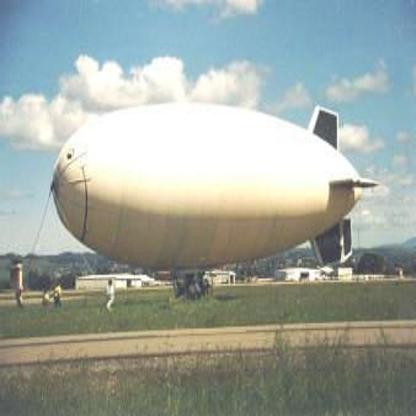Airship: (48, 99, 371, 287)
